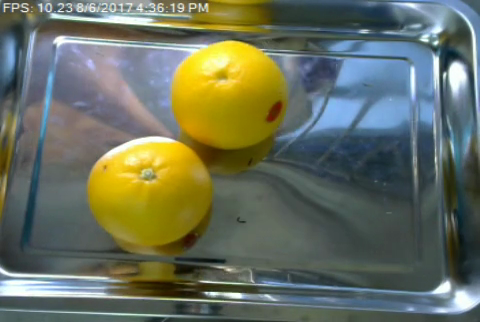Orange: (85, 134, 212, 244), (171, 39, 289, 148)
